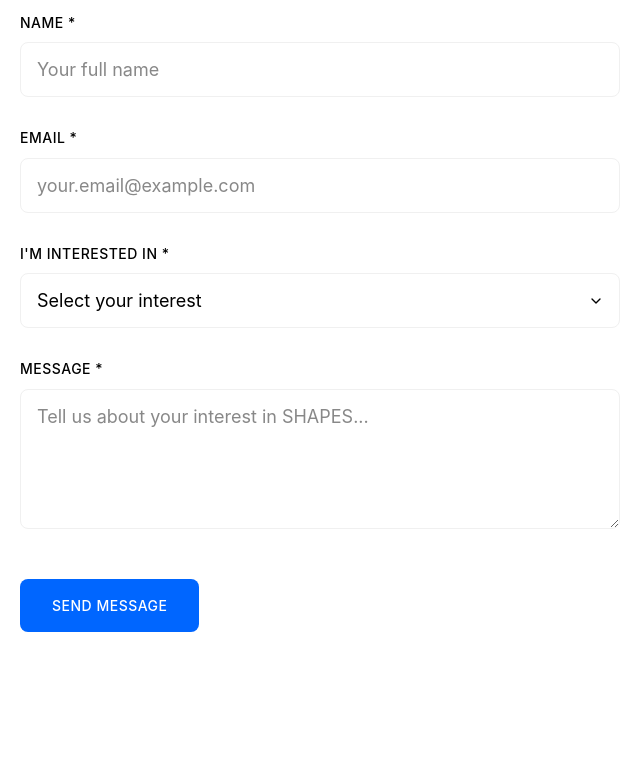
Test: ContactForm › clears individual field errors when user starts typing
The image size is (639, 761).
// First trigger validation errors
Click the button "Send Message": click(110, 605) left=20, top=579, right=200, bottom=632
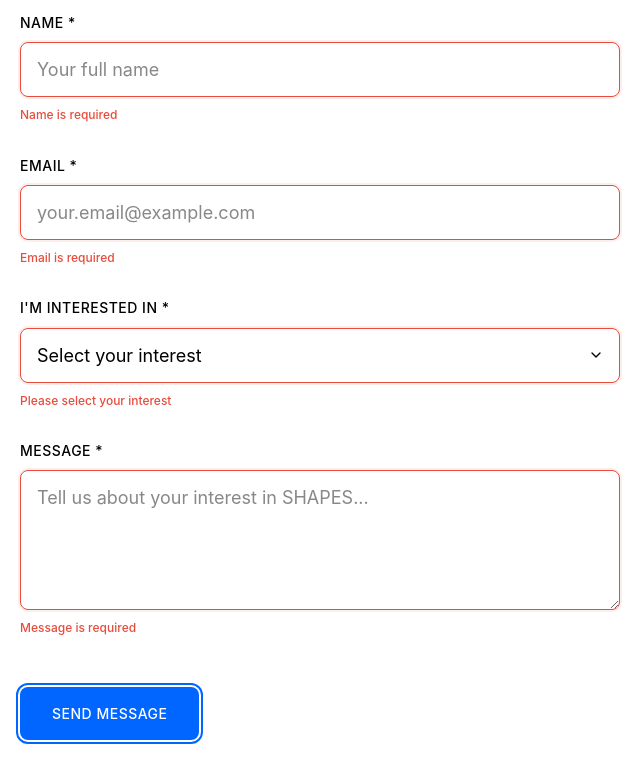
Now the text "Name is required" is shown, box left=20, top=107, right=118, bottom=122
// Then start typing in name field
In the field labelled "Name *": (320, 70) left=20, top=42, right=620, bottom=97, type "John"
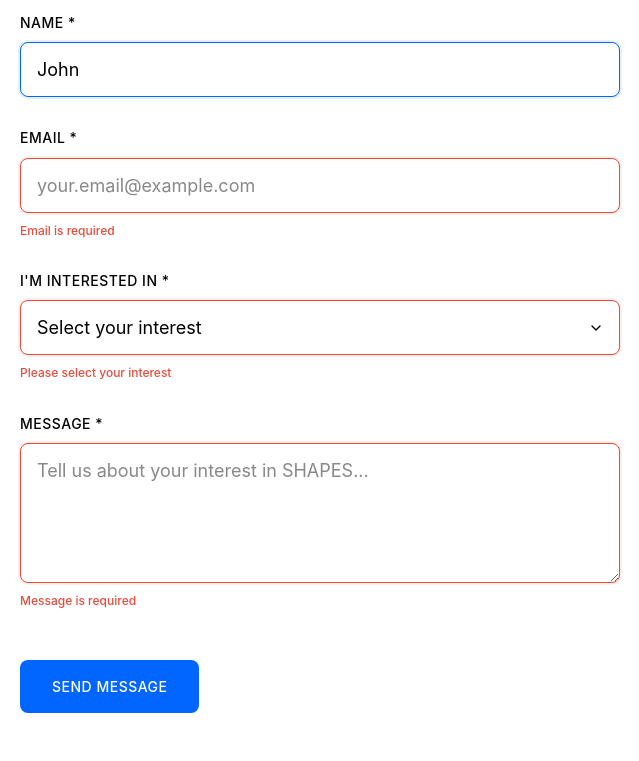
Now the text "Name is required" is gone
